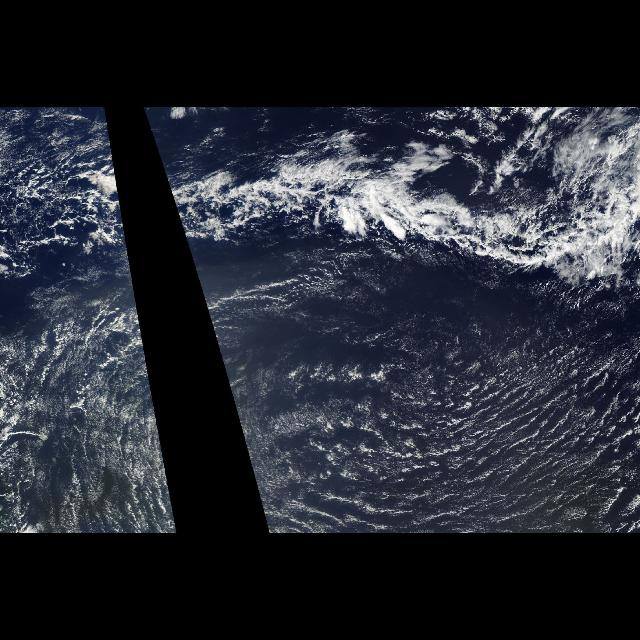Fish: (155, 112, 640, 330), (18, 142, 136, 298)
Gravel: (15, 124, 130, 292)
Sugar: (207, 268, 639, 534), (2, 312, 180, 534)
